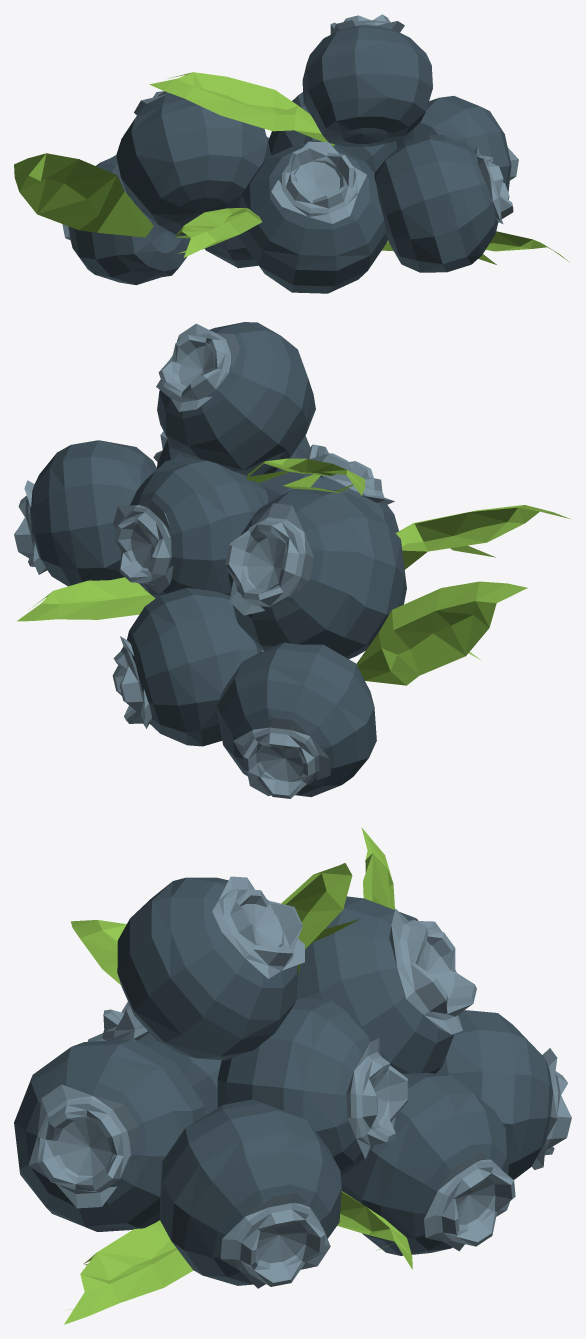
Rendered from blueberry-harvest.glb.
3 views of the same model, one above another, from view 1: azimuth 30°, elevation 25°; view 2: azimuth 150°, elevation 25°; view 3: azimuth 270°, elevation 25° (orthographic). The views are drawn at different scales.
Visible parts, largest first — view 1: model; view 2: model; view 3: model.
Part boxes in pixels (bbox=[...]): model: bbox=[14, 14, 568, 293]; model: bbox=[14, 322, 569, 798]; model: bbox=[14, 827, 571, 1324].
Bounding box in the file's own units: 1 × 0.5964 × 0.7475.
